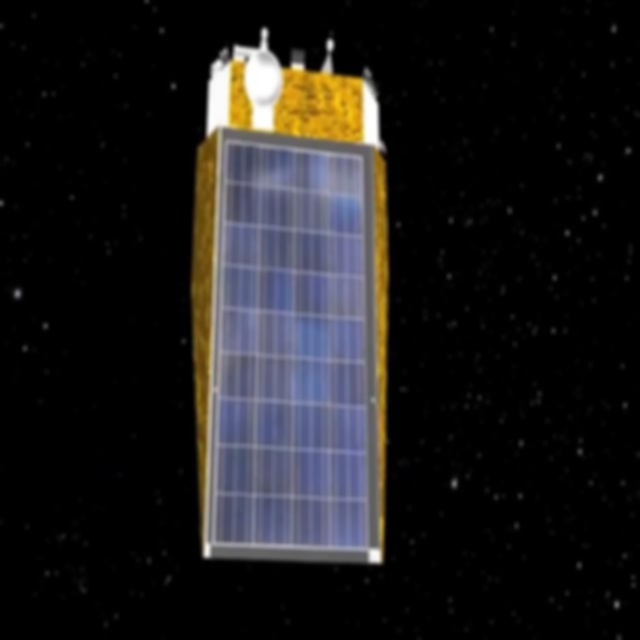satellite: (168, 9, 411, 599)
